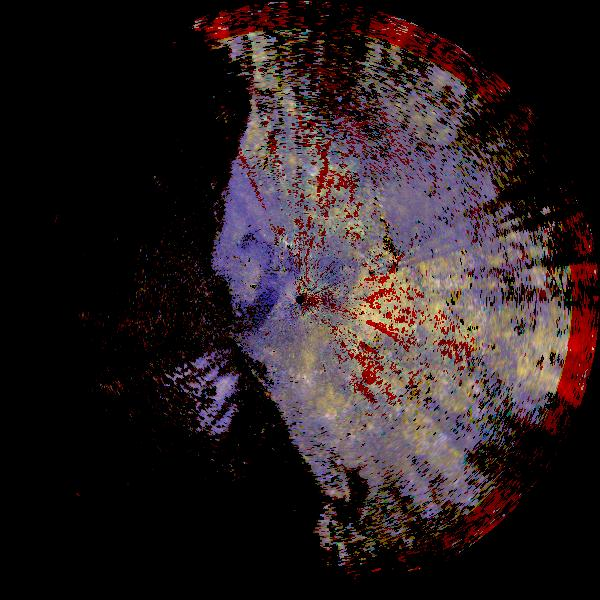roost: (268, 345, 328, 405)
